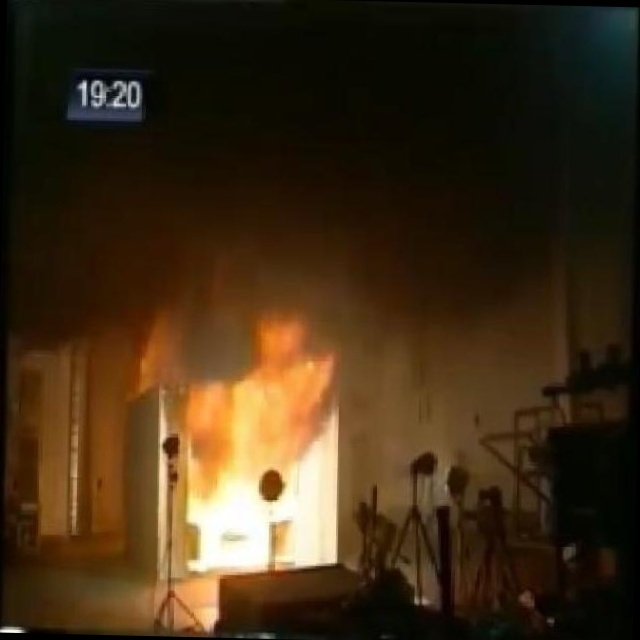fire: (135, 288, 347, 543)
